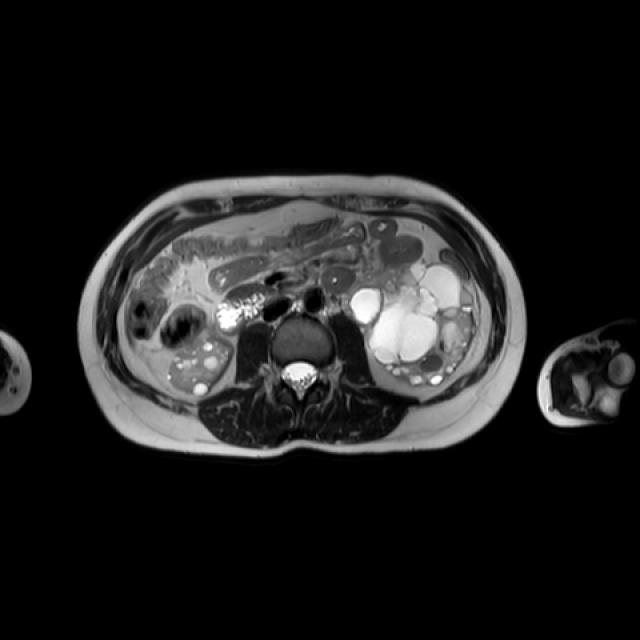sag: (166, 328, 235, 396)
sol: (340, 254, 478, 392)
